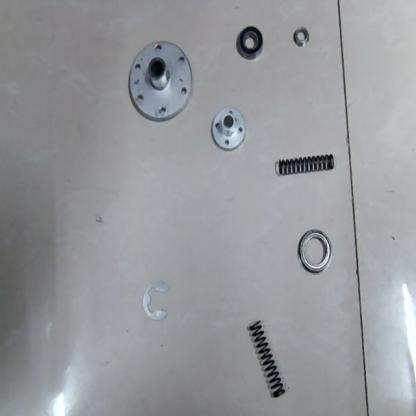FOD: (127, 36, 193, 122), (244, 316, 288, 402), (294, 229, 335, 275), (208, 107, 247, 154), (274, 149, 336, 178), (140, 277, 172, 323), (234, 25, 264, 63), (292, 24, 310, 49)
